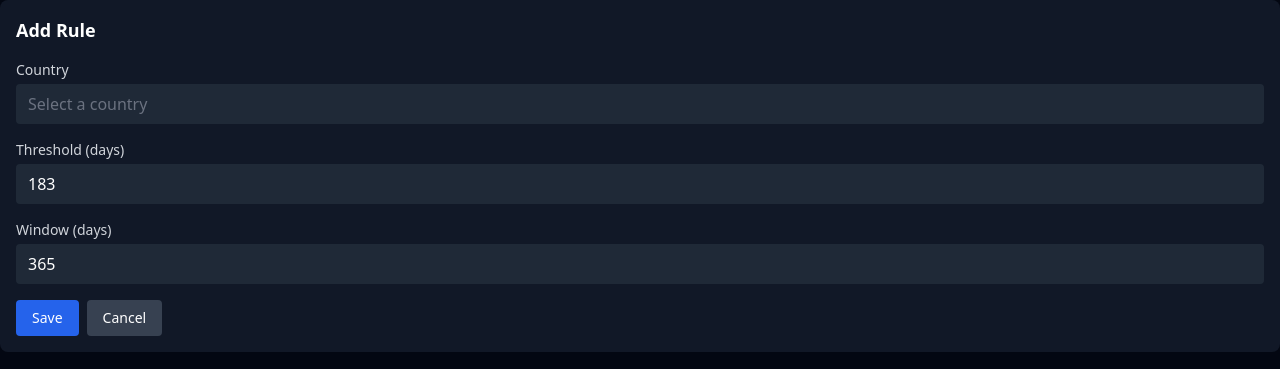
RuleForm - Add Mode (no initialValues) › disables Save button while submitting
Type "France" into the field with placeholder "Select a country" at (640, 104), box 16,84 -> 1264,124
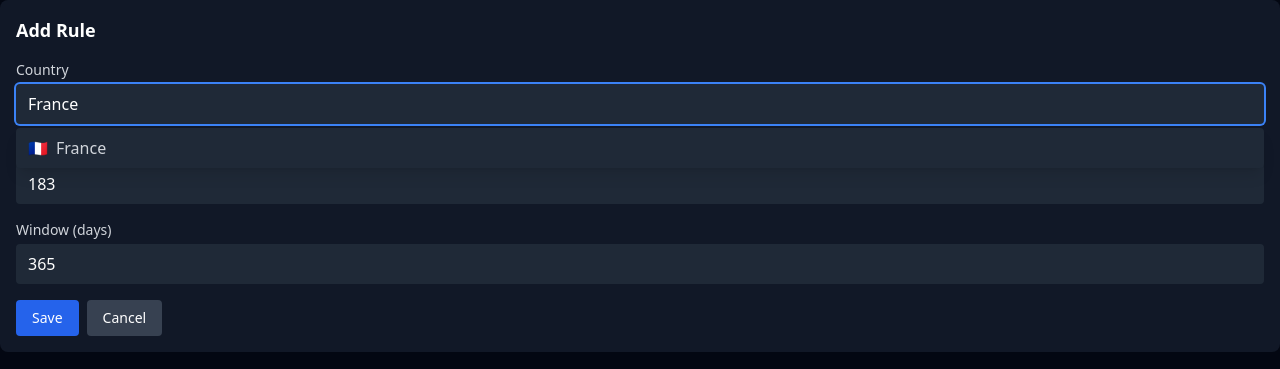
Press the mouse on the text "France" at (81, 148), box 56,136 -> 106,160
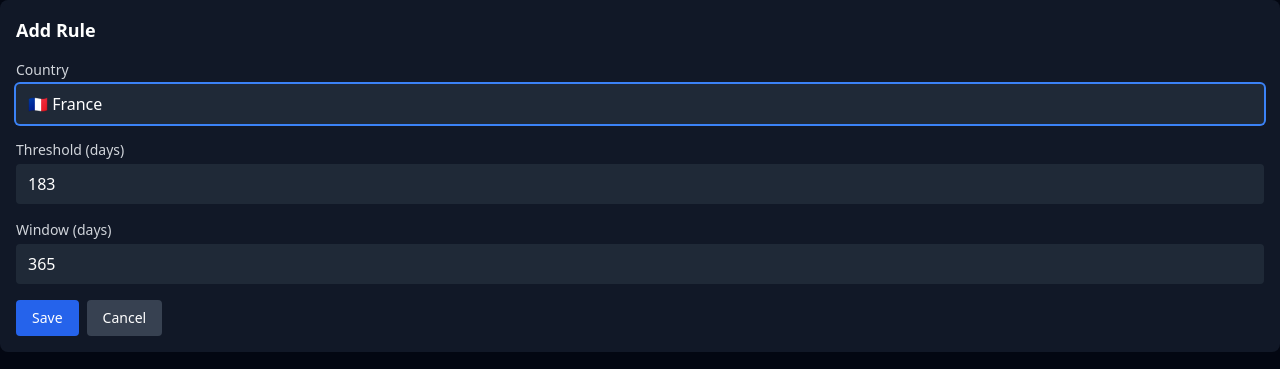
Click the button "Save" at (47, 318), box 16,300 -> 79,336
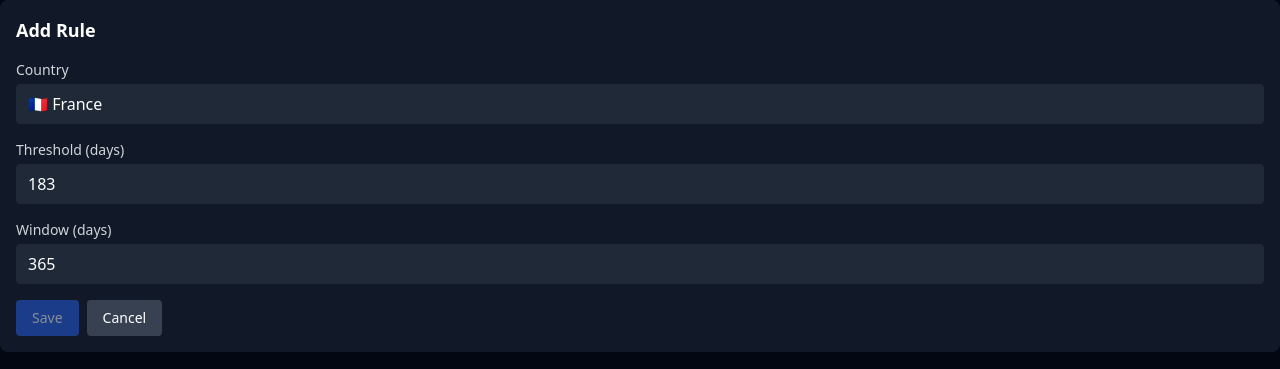
expect the button "Save" is disabled: met, box 16,300 -> 79,336
